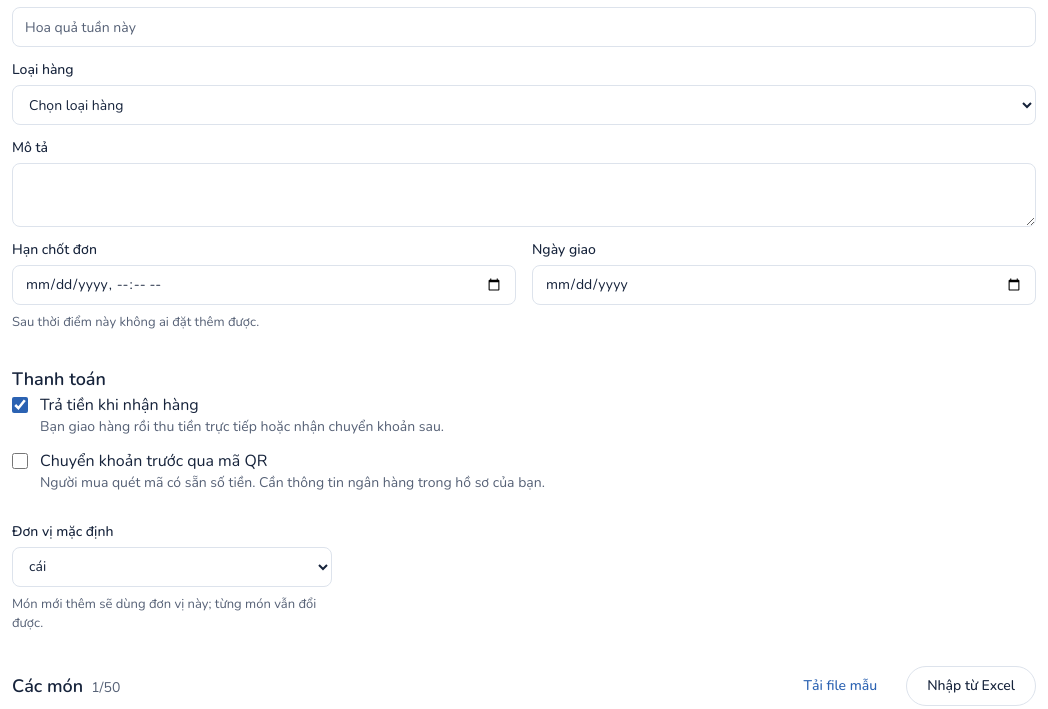
Test case: CampaignForm › a new round › adds a product in the default unit and counts the products
expect the text "1/50" is shown: met, box top-left (91, 678), bottom-right (120, 698)
Select "hộp" in the dropdown labelled "Đơn vị mặc định" at (172, 566), box top-left (12, 546), bottom-right (332, 586)
(page scrolled)
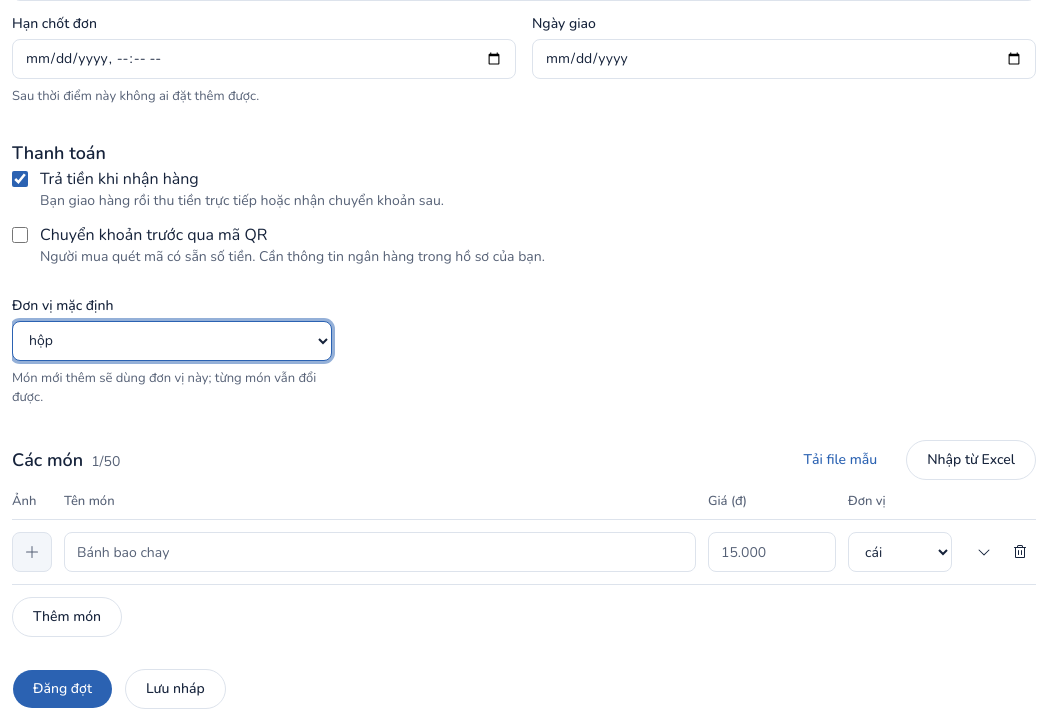
Click the button "Thêm món" at (67, 617), box top-left (12, 597), bottom-right (122, 637)
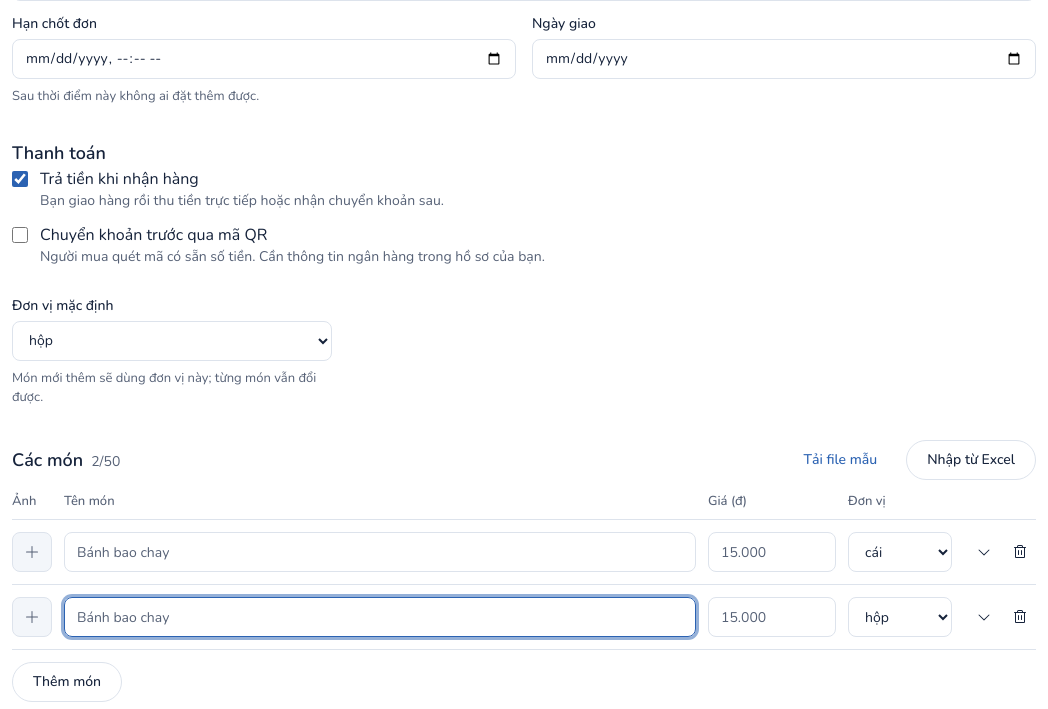
expect the 1st dropdown named "Đơn vị món 1" shows "cái": met, box top-left (848, 532), bottom-right (952, 572)
expect the text "2/50" is shown: met, box top-left (91, 452), bottom-right (120, 472)
expect the 2nd dropdown named "Đơn vị món 2" shows "hộp": met, box top-left (848, 597), bottom-right (952, 637)
